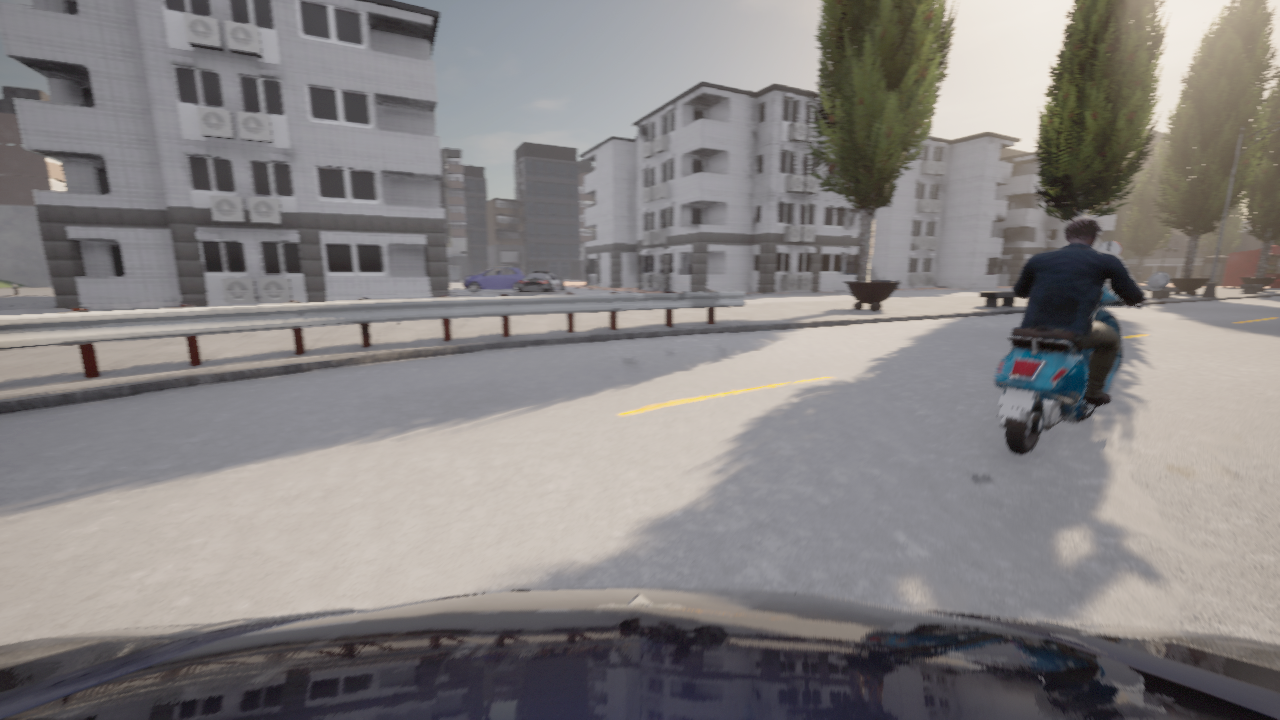cyclist: (0, 588, 1279, 719), (995, 270, 1169, 455), (463, 267, 524, 292), (517, 271, 564, 293), (518, 280, 547, 282)
